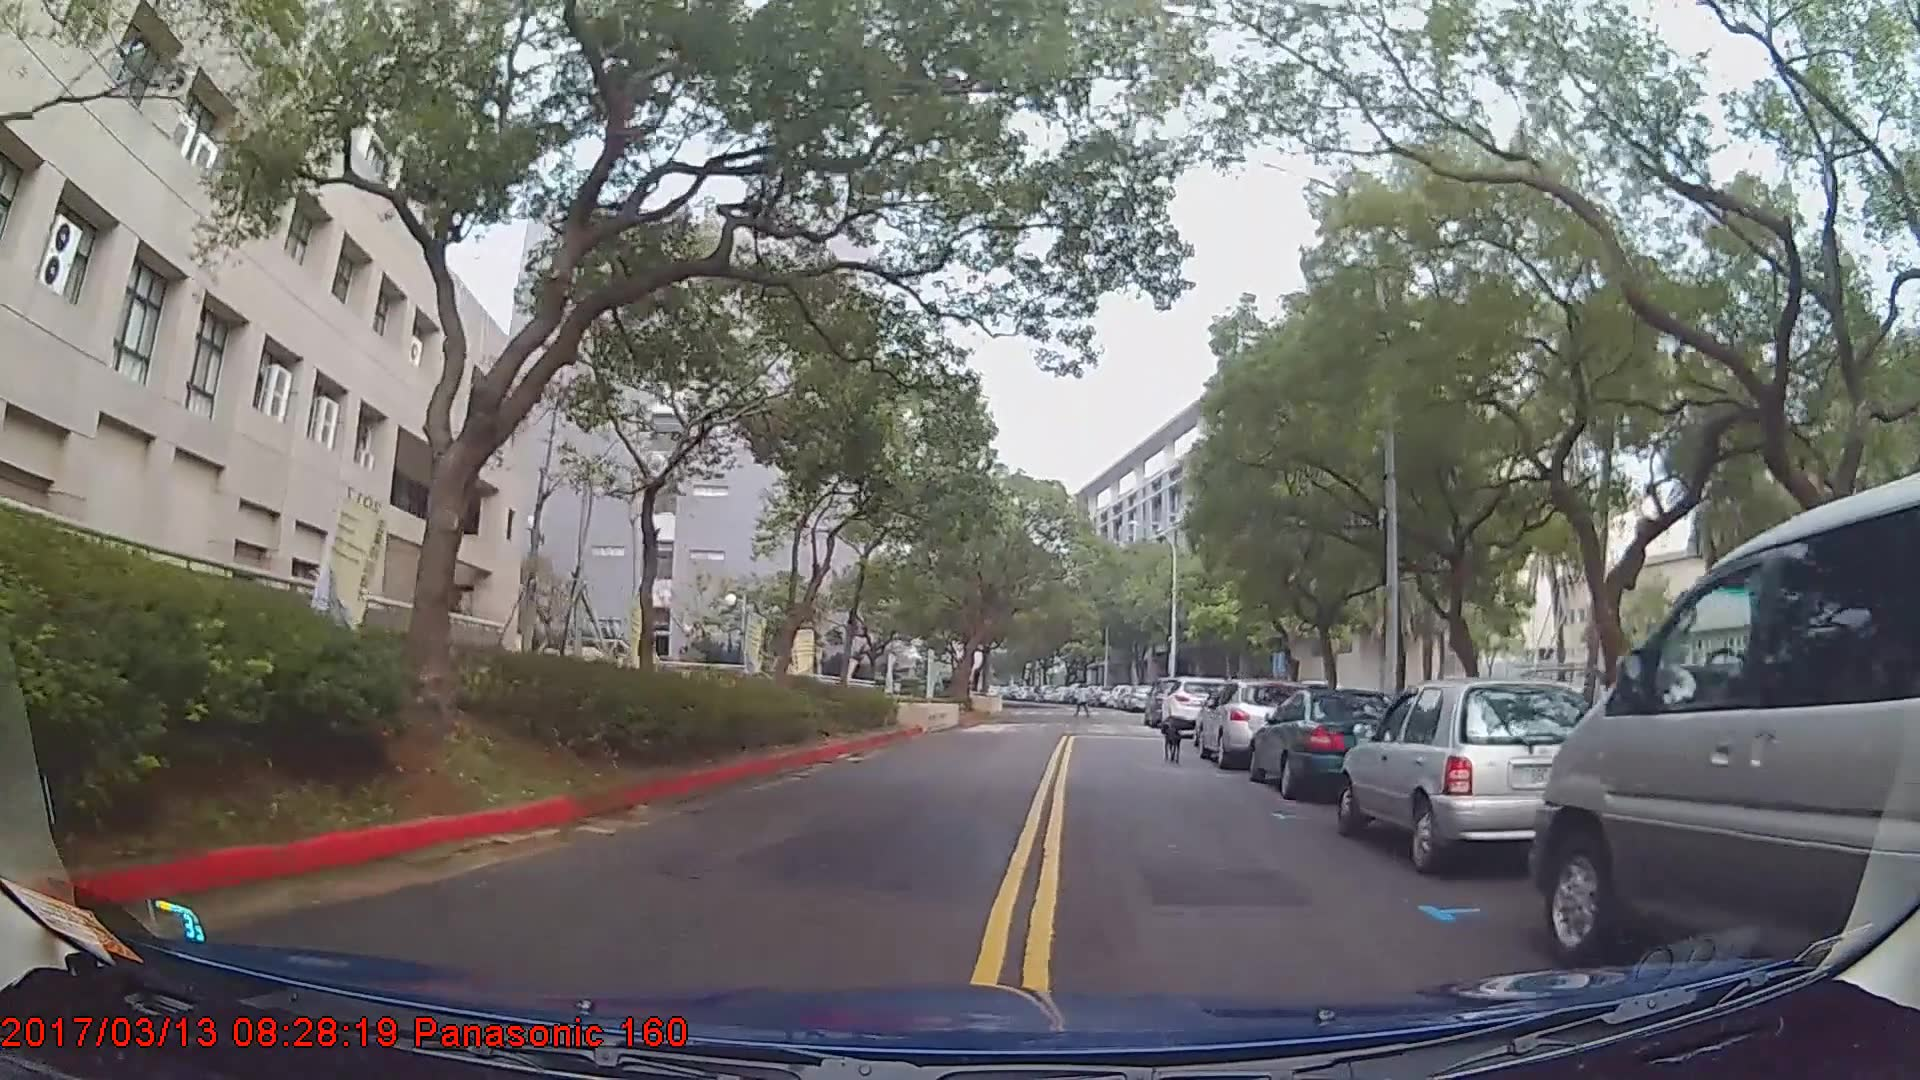vehicle: (1531, 473, 1920, 973), (1342, 679, 1619, 873), (1247, 684, 1410, 802), (1196, 678, 1304, 767), (1162, 674, 1233, 735)
